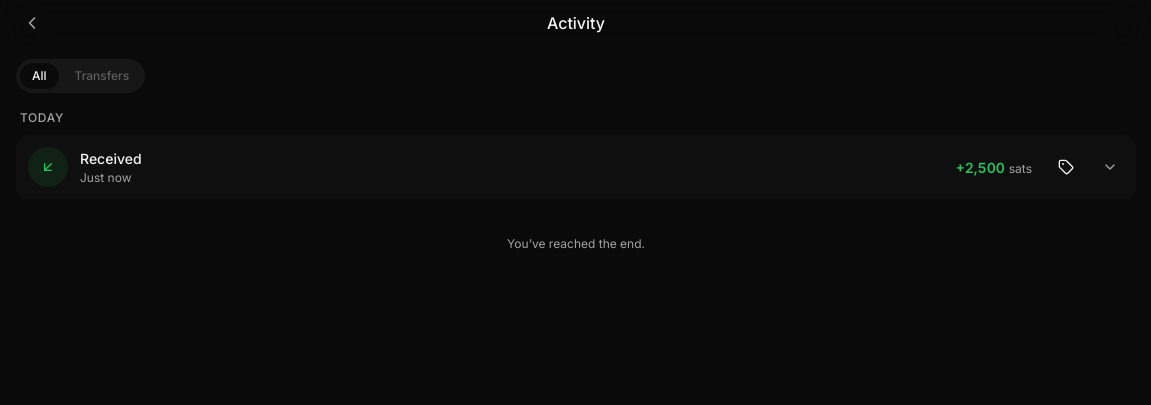
Test case: ActivityScreen quick transaction information › shows explicit empty states for absent messages and labels
This screenshot has width=1151, height=405.
Click the button named "Expand transaction information" at (1110, 167), box [1088,145,1132,189]
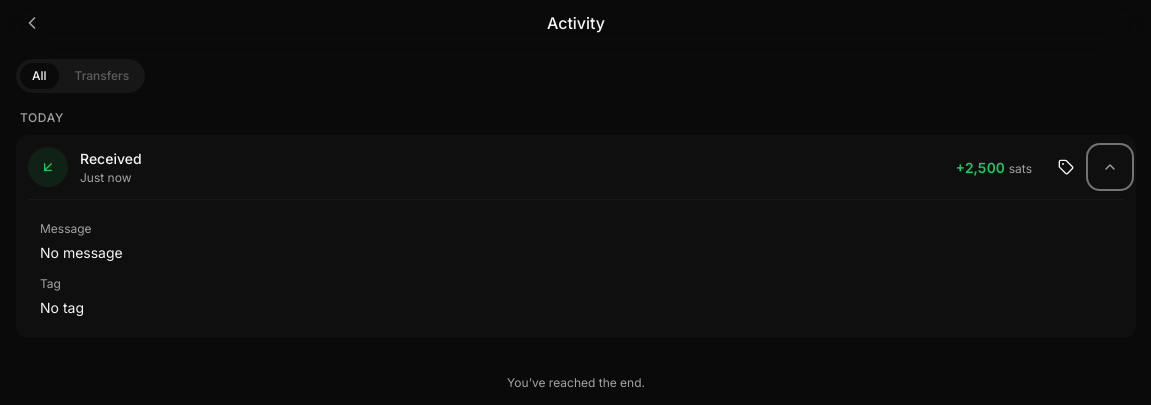
Expected: the text "No message" is shown, [40,244,123,261]
Expected: the text "No tag" is shown, [40,299,84,316]
